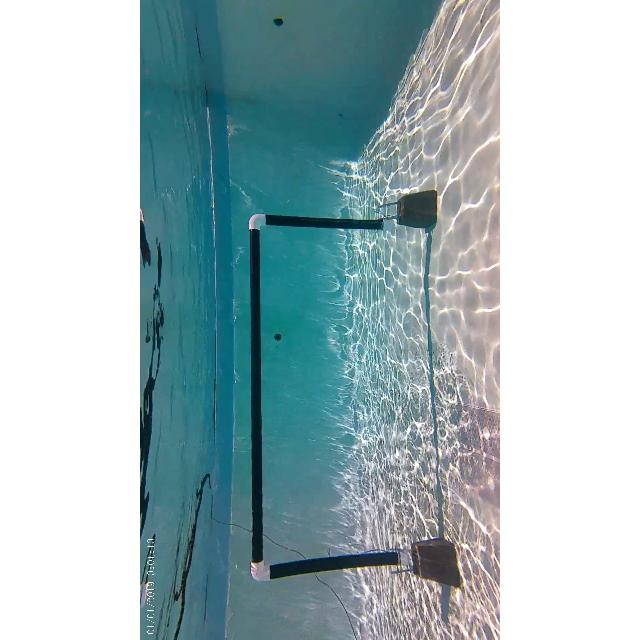prequal gate: (250, 215, 412, 579)
prequal gate leg l: (240, 536, 464, 590)
prequal gate leg r: (247, 190, 439, 240)
